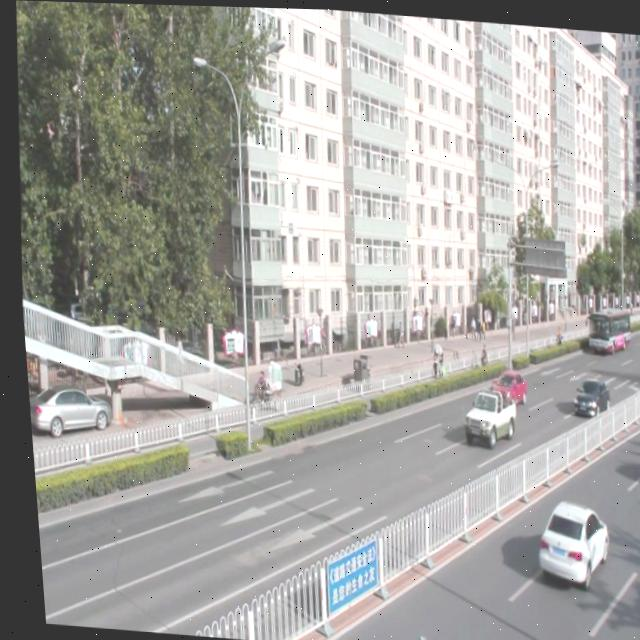car: (522, 493, 604, 584), (455, 384, 512, 443), (564, 372, 605, 417), (482, 364, 521, 401)
